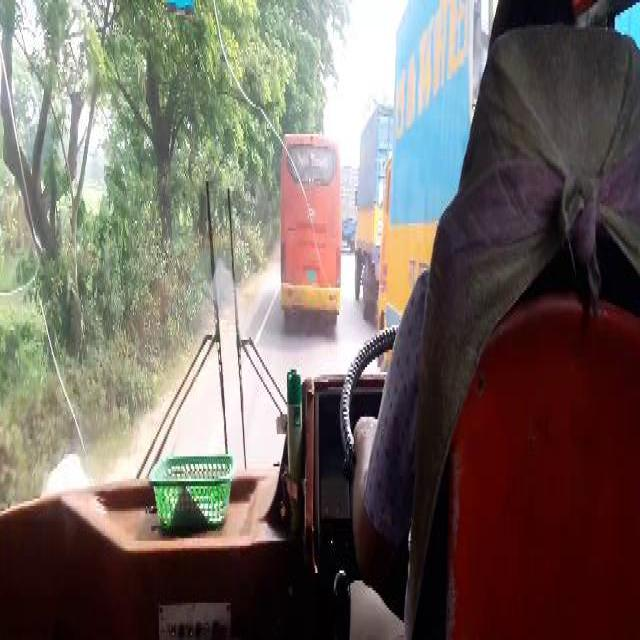11: (376, 2, 472, 354), (354, 108, 384, 314), (342, 161, 358, 246)
Truck: (279, 131, 335, 320)
